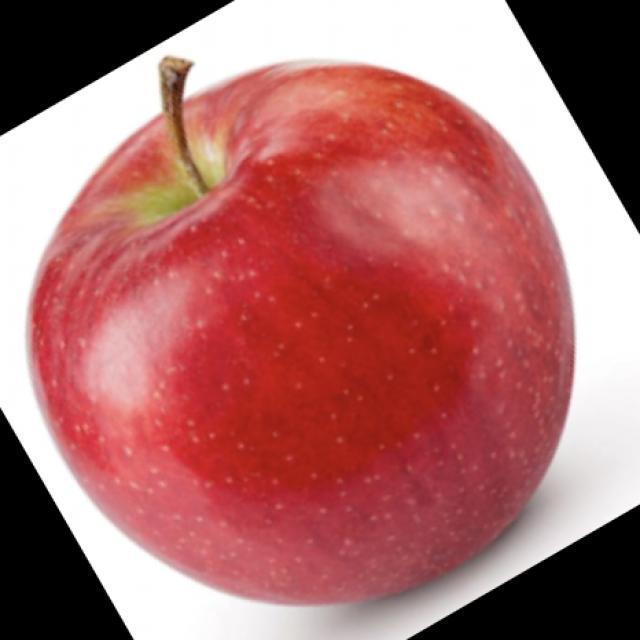Fresh Apple: (38, 65, 562, 588)
